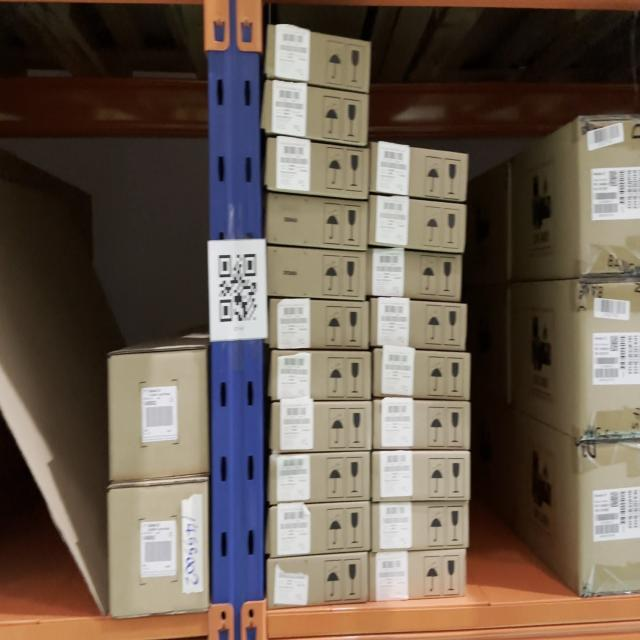box: (110, 354, 207, 479), (109, 489, 208, 611), (270, 453, 370, 502), (271, 301, 368, 349), (271, 402, 371, 447), (273, 354, 372, 398), (374, 404, 470, 448), (373, 454, 469, 498), (269, 253, 367, 296), (267, 559, 367, 601), (268, 201, 368, 243), (271, 507, 370, 549), (373, 504, 469, 546), (375, 354, 470, 396), (370, 555, 465, 597), (265, 94, 366, 132), (368, 254, 461, 295), (371, 204, 463, 245), (269, 150, 368, 188), (371, 305, 466, 344), (372, 154, 468, 190), (269, 44, 370, 77)
